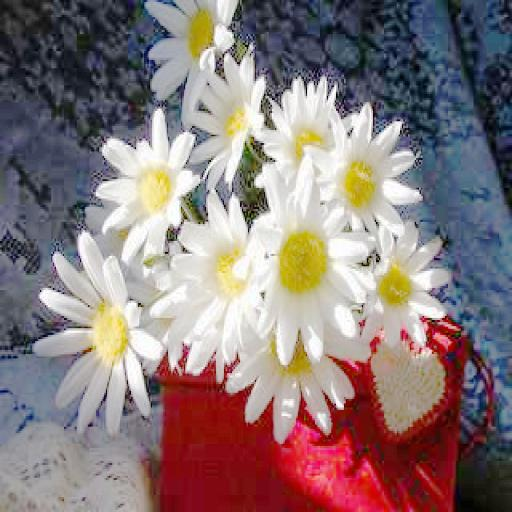daisy: (42, 241, 150, 425), (168, 198, 267, 360), (260, 201, 354, 354), (318, 111, 413, 245), (107, 117, 195, 250), (357, 230, 448, 340), (192, 54, 264, 184), (274, 77, 342, 194)
